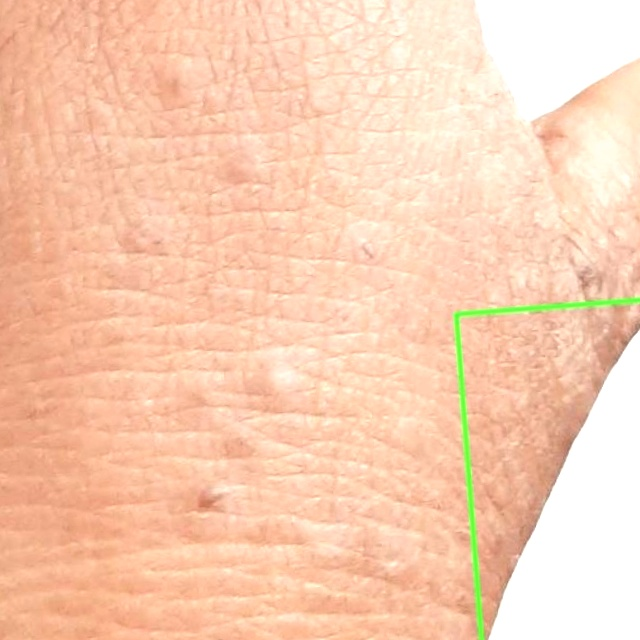Scabies: (456, 299, 639, 639)
